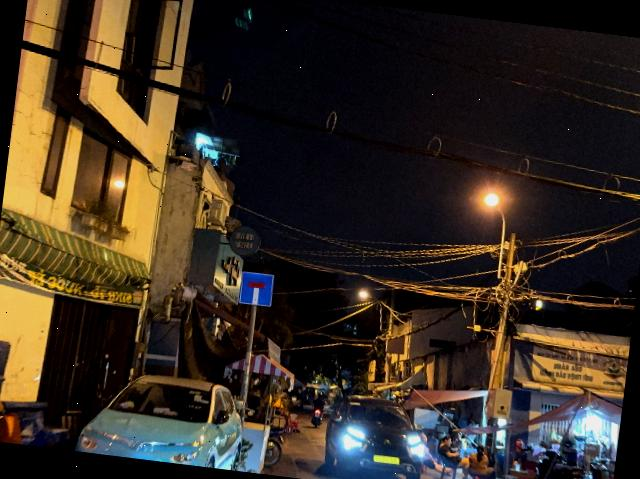duong-cut: (238, 271, 274, 307)
